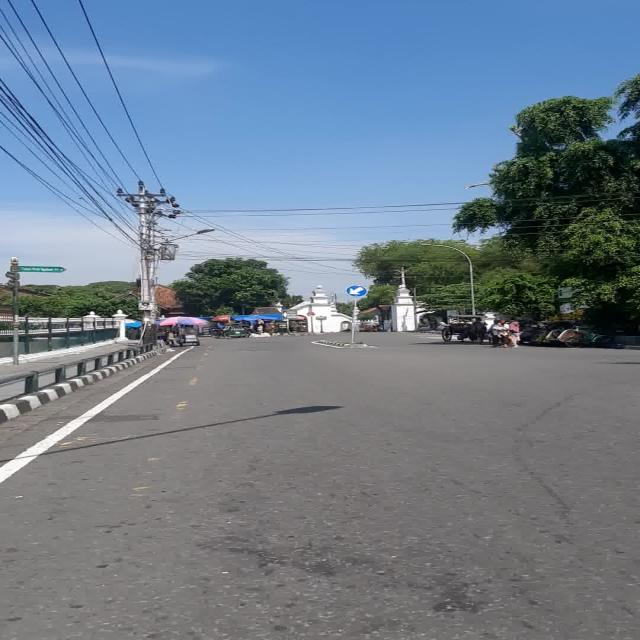Lajur Kiri: (346, 285, 368, 297)
